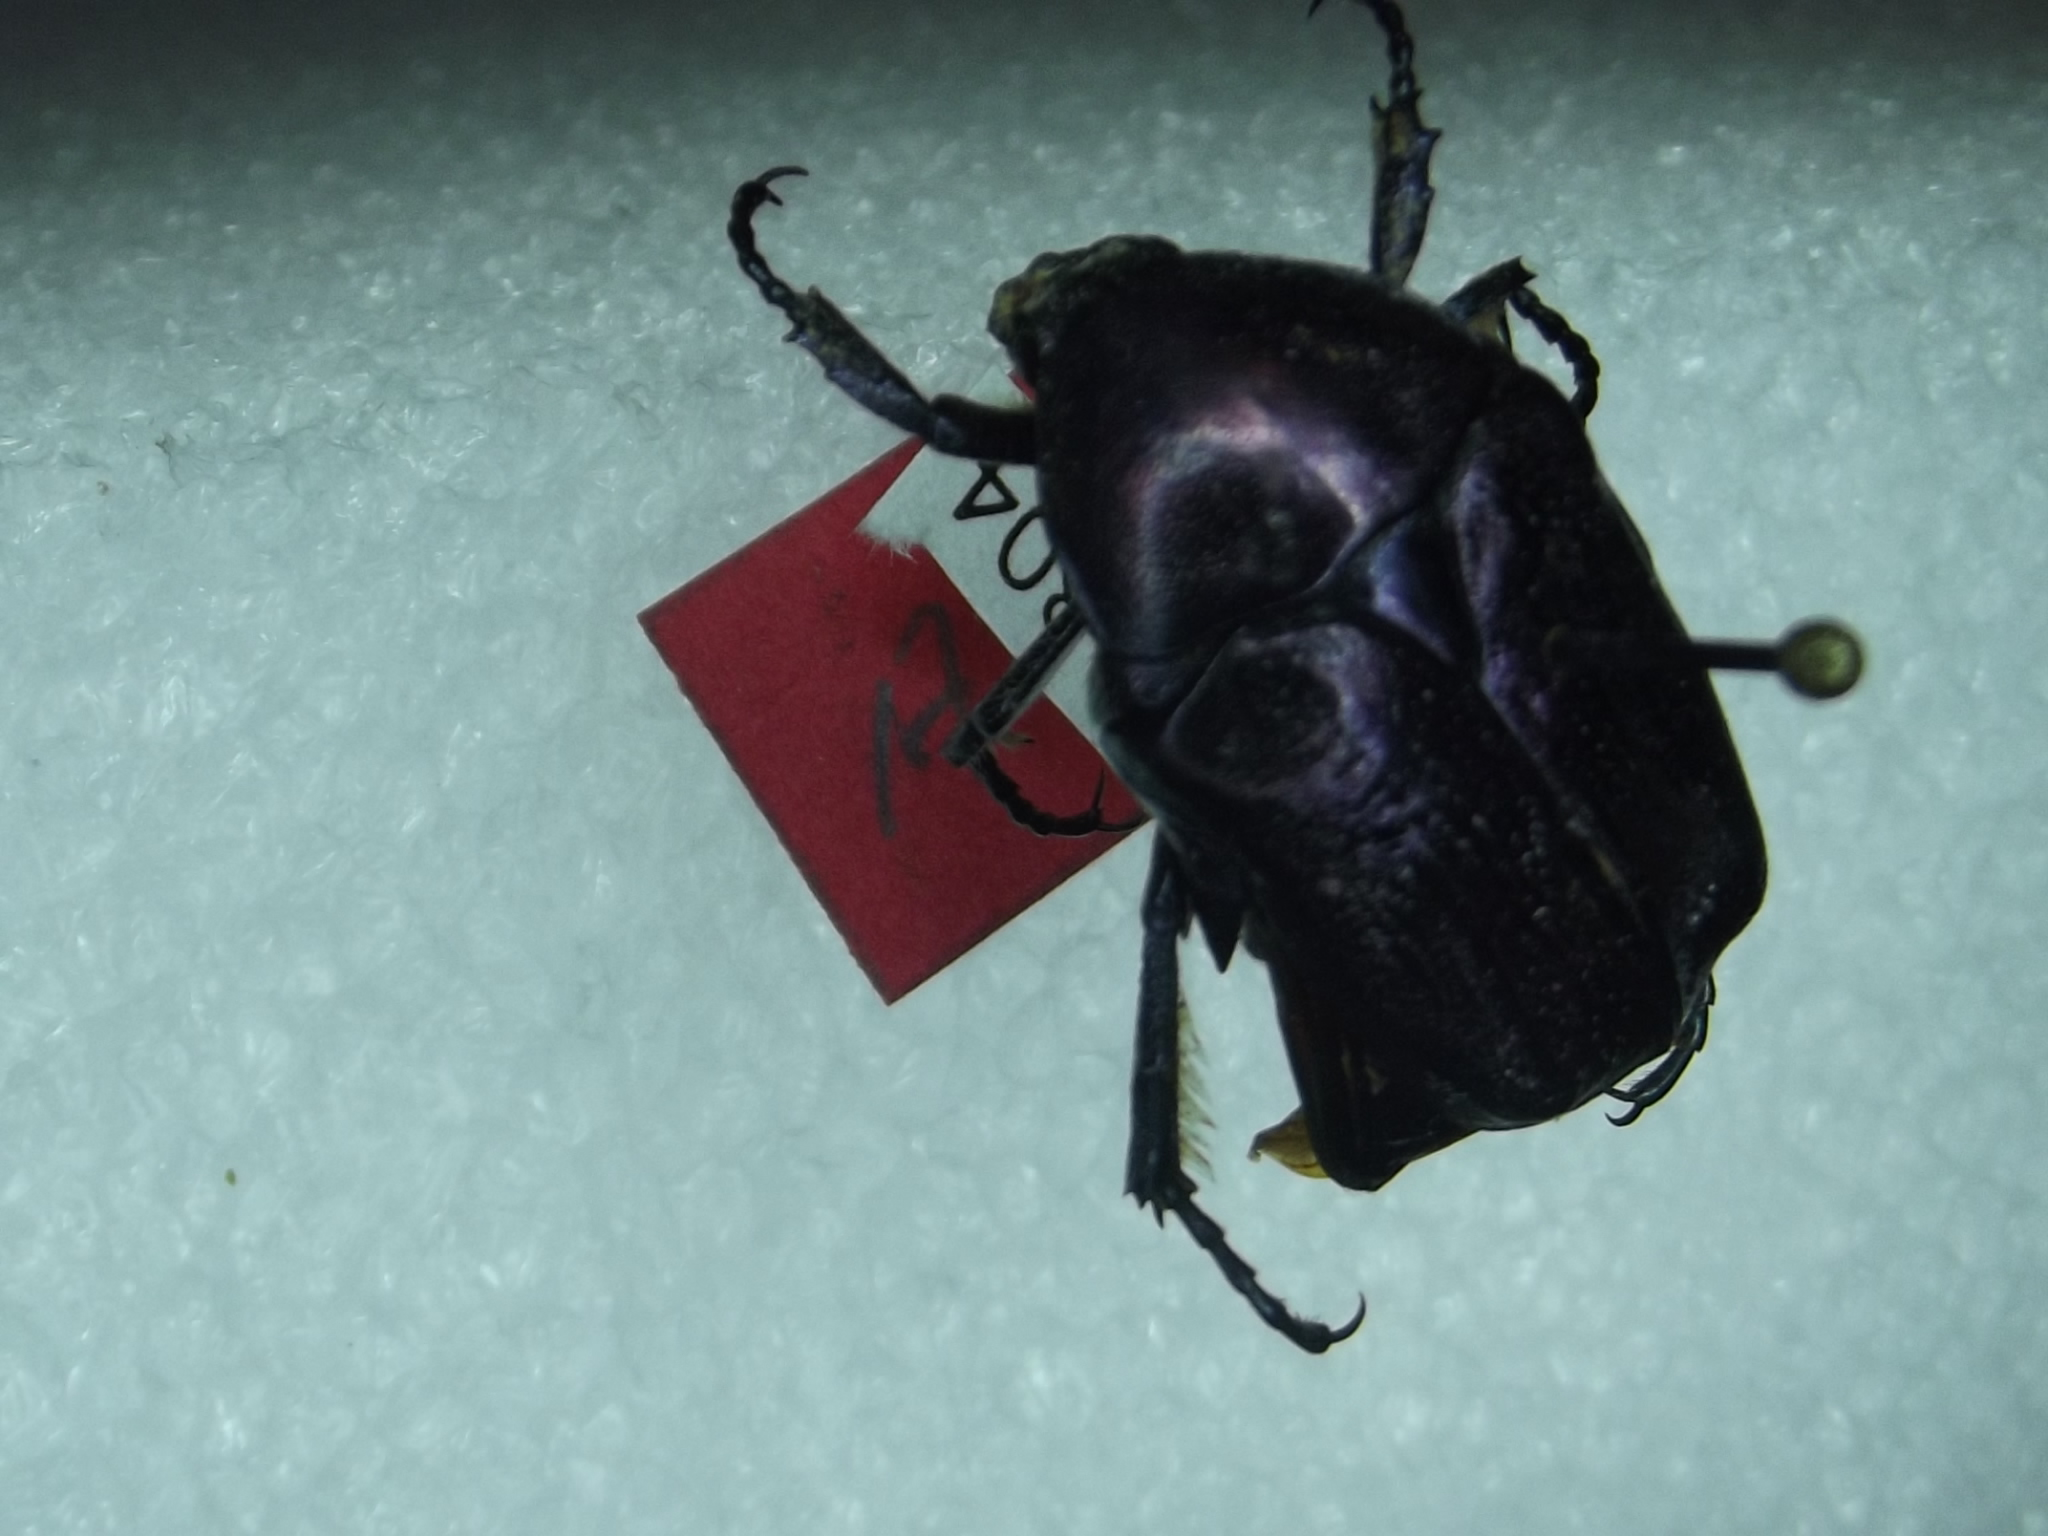Protaetia_besucheti: (710, 2, 1796, 1368)
